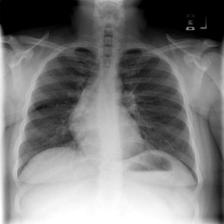normal: (13, 38, 202, 193)
